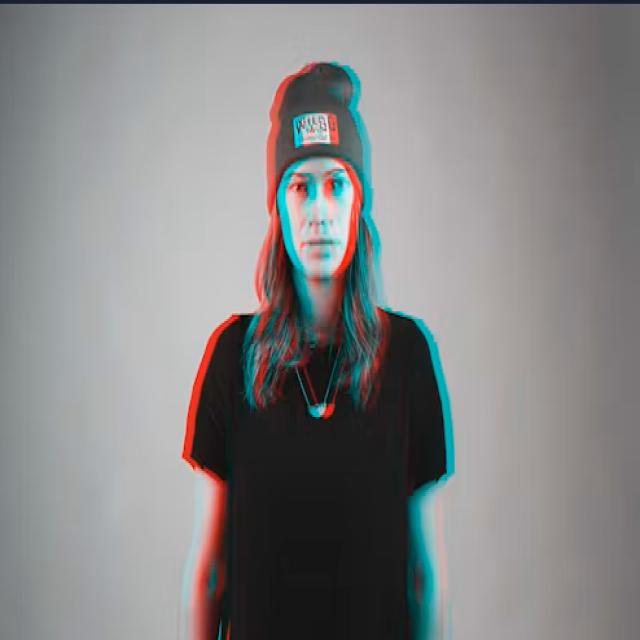Edited images: (163, 49, 467, 640)
